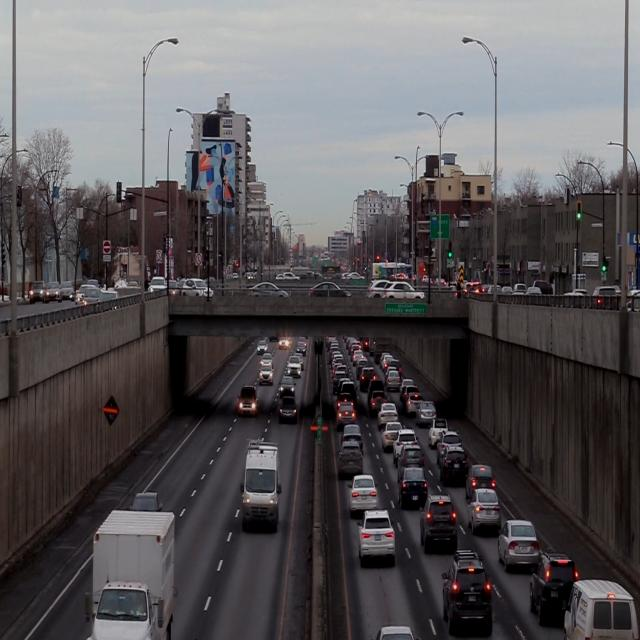Vehicle: (92, 508, 178, 640), (442, 551, 493, 634), (243, 442, 282, 534), (528, 553, 579, 618), (357, 510, 398, 566), (419, 496, 459, 552), (500, 519, 540, 572), (469, 491, 502, 534), (349, 475, 381, 514), (399, 466, 428, 509), (468, 464, 497, 498), (440, 448, 468, 483), (338, 442, 365, 476), (397, 446, 426, 475), (238, 385, 258, 416), (280, 397, 297, 423), (280, 376, 296, 397)
